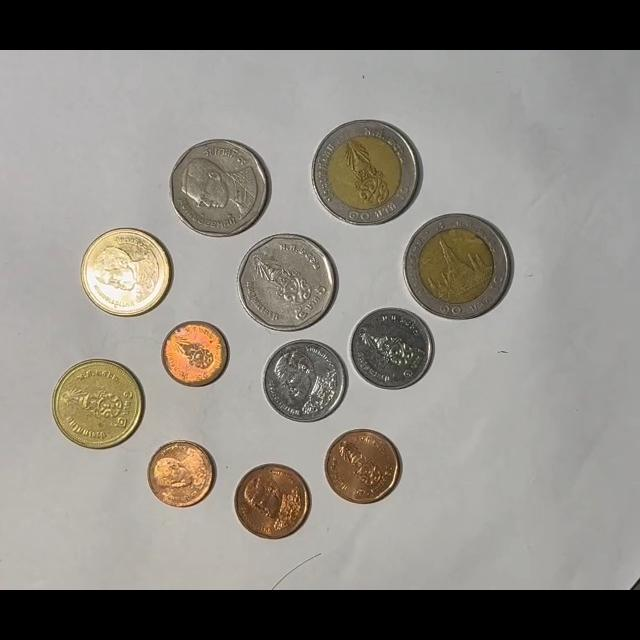1-baht: (261, 339, 346, 423), (350, 307, 433, 390)
10-baht: (312, 120, 421, 227), (403, 213, 512, 320)
2-baht: (53, 359, 144, 450), (80, 228, 171, 318)
25-satang: (147, 440, 217, 509), (161, 320, 229, 387)
5-baht: (169, 138, 270, 238), (237, 233, 338, 332)
50-satang: (233, 463, 311, 540), (324, 429, 401, 505)
